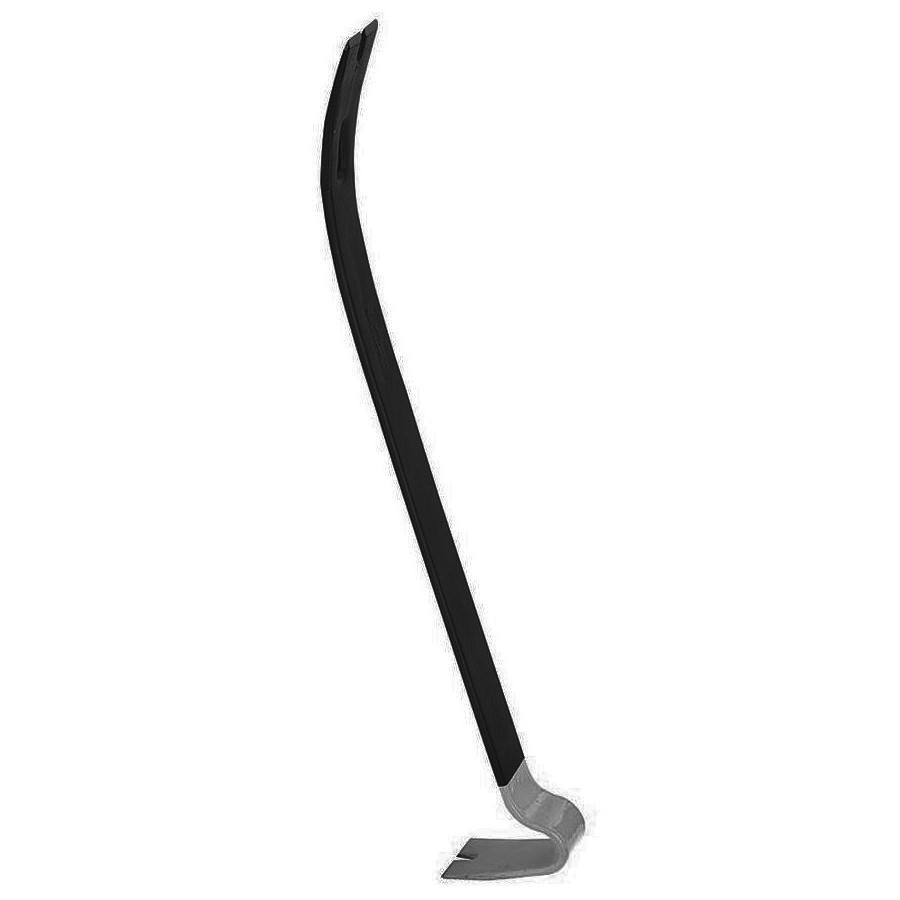crowbar: (9, 279, 884, 587)
